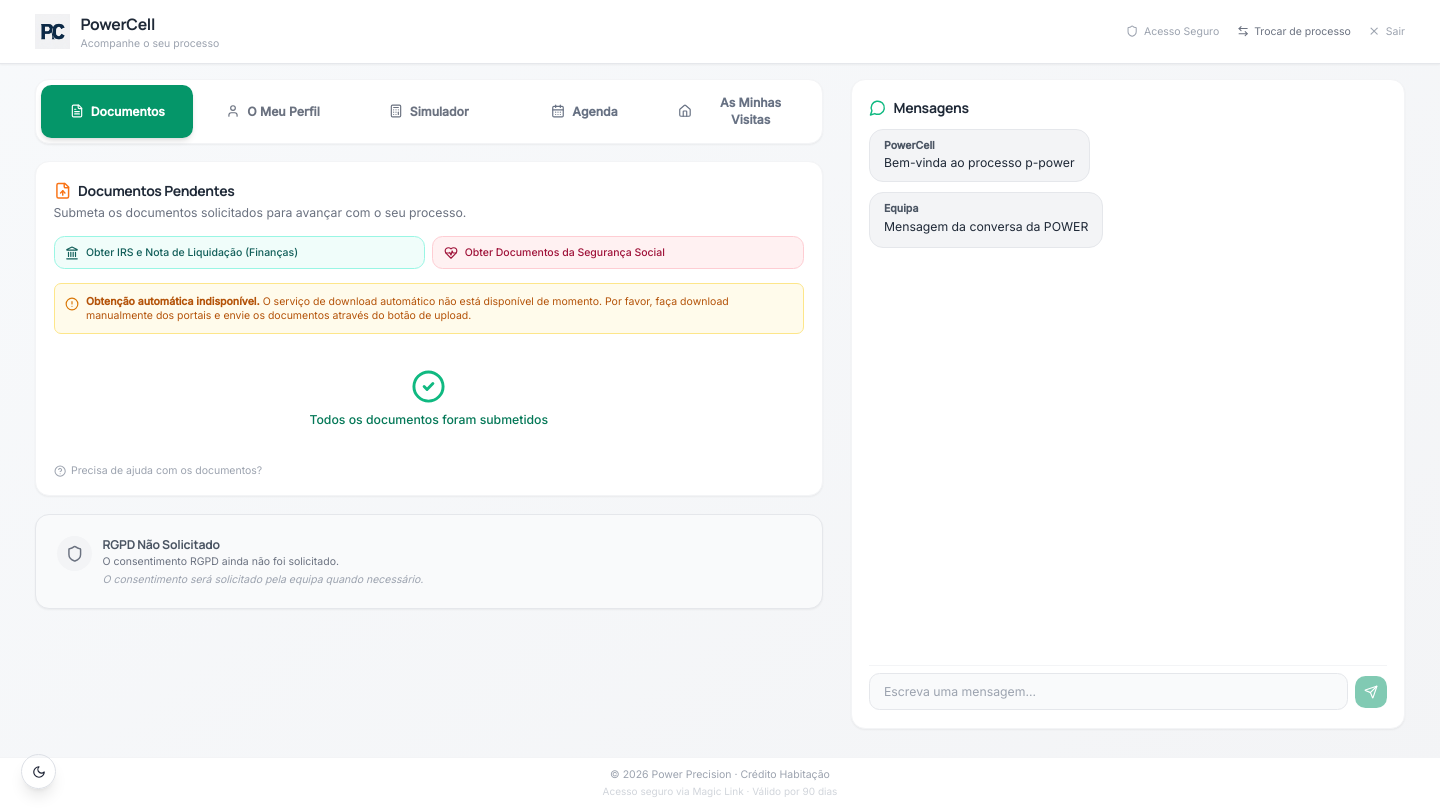
Test: trocar de processo › o botão só existe com Hub e leva de volta à lista sem terminar a sessão
(page scrolled)
Expected: the text "Bem-vinda ao processo p-power" is shown, [884, 154, 1074, 172]
Click the button with test id "portal-trocar-de-processo" at [1294, 32], box [1237, 24, 1351, 38]
(page scrolled)
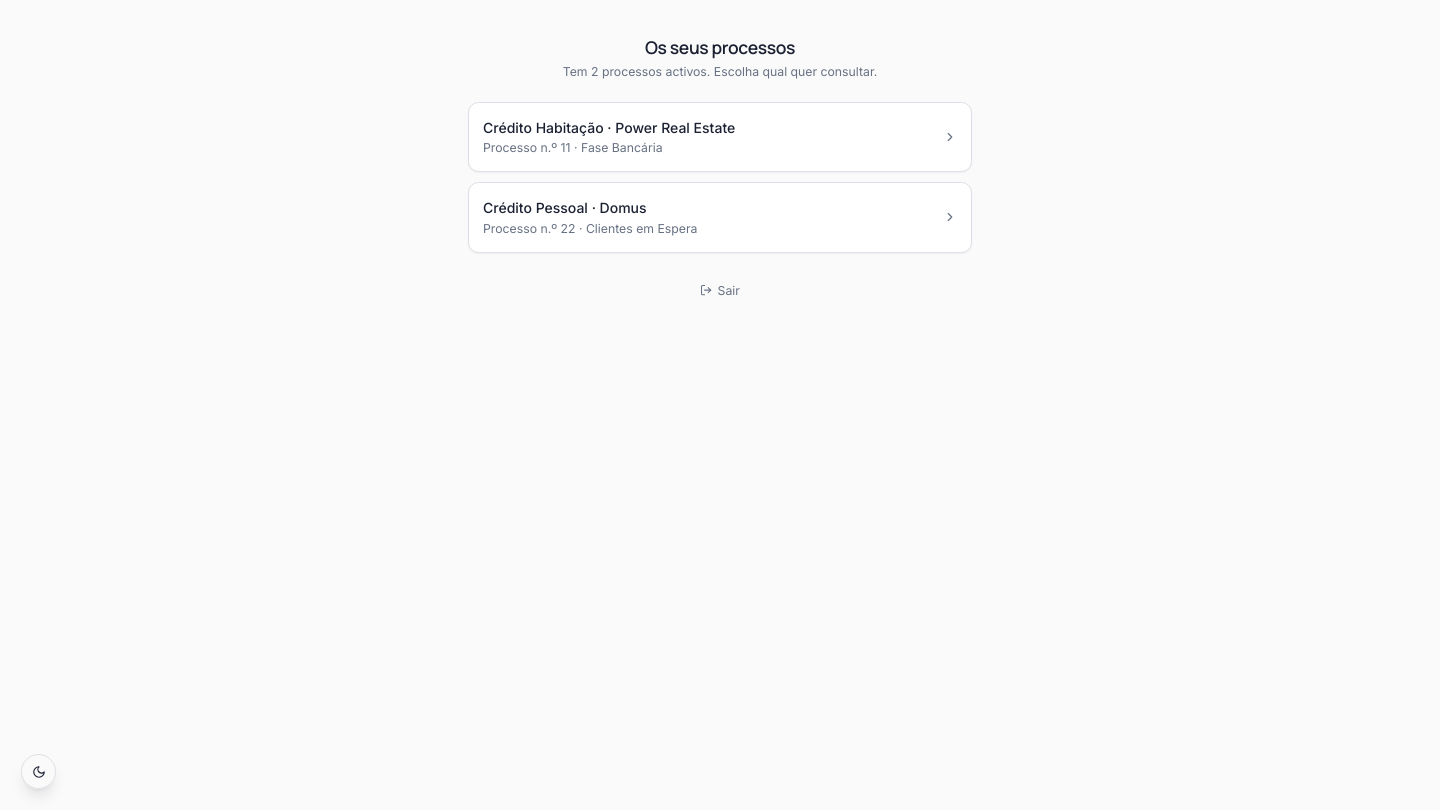
Expected: the element with test id "portal-hub" is shown
